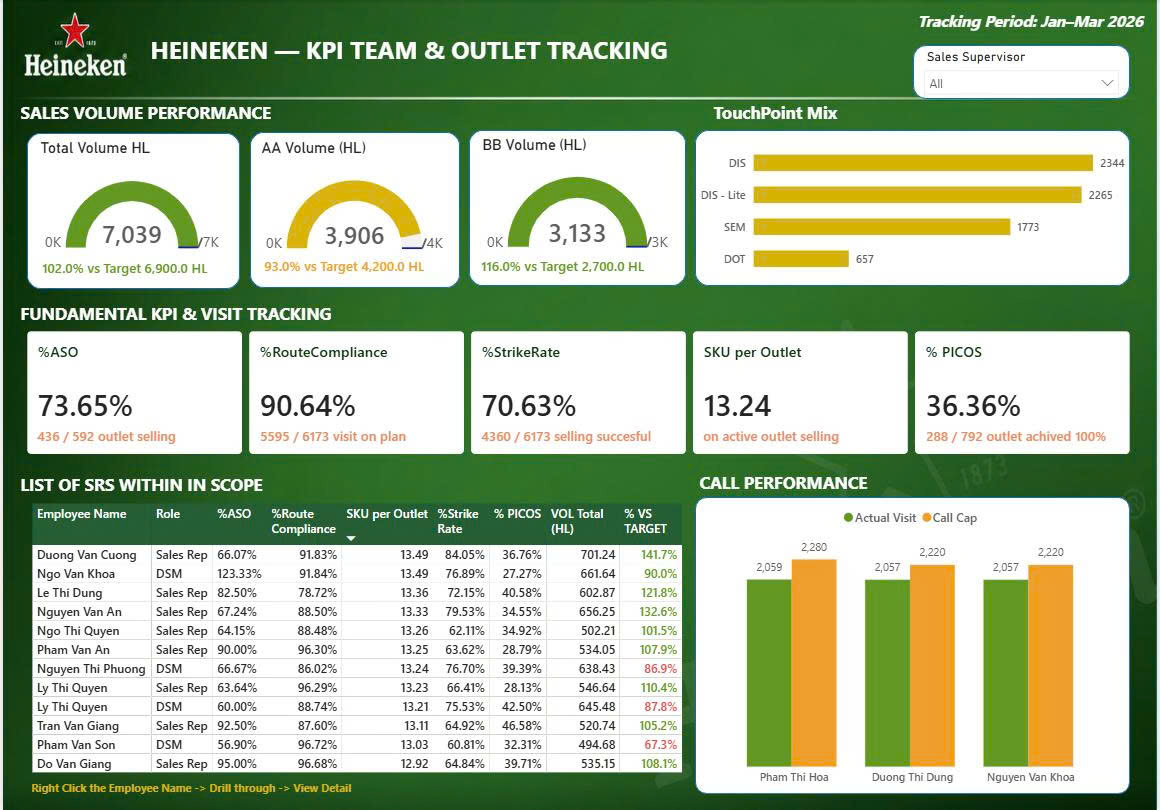

Layout of this report page (visuals, bound fields, positions):
{"tool":"powerbi","page":{"name":"Overview","canvas":[1280,900],"ordinal":0},"visuals":[{"type":"shape","box":[767,144.1,482.1,172.9],"z":1000},{"type":"shape","box":[1008.6,49.9,240.5,59.9],"z":2000},{"type":"shape","box":[516.5,144.1,240.5,172.9],"z":3000},{"type":"shape","box":[273.8,146.3,232.8,172.9],"z":4000},{"type":"shape","box":[26.6,147.4,236.1,172.9],"z":5000},{"type":"shape","box":[0,0,580.8,111.9],"z":6000},{"type":"textbox","title":"Tracking Period: Jan–Mar 2026","box":[1008.6,11.1,269.7,24.6],"z":7000},{"type":"textbox","title":"SALES VOLUME PERFORMANCE","box":[14.4,111.9,354.7,28.8],"z":8000},{"type":"textbox","title":"FUNDAMENTAL KPI & VISIT TRACKING","box":[14.4,334.7,354.7,28.8],"z":9000},{"type":"textbox","title":"LIST OF SRS WITHIN IN SCOPE","box":[14.4,524.3,354.7,28.8],"z":10000},{"type":"textbox","title":"CALL PERFORMANCE","box":[767,522,354.7,28.8],"z":11000},{"type":"gauge","title":"Total Volume HL","fields":{"MaxValue":["_Measures.Target Total Volume"],"TargetValue":["_Measures.Target Total Volume"],"Y":["_Measures.Total Sales Volume"]},"box":[36.6,154.1,212.8,141.9],"z":12000},{"type":"gauge","title":"AA Volume (HL)","fields":{"MaxValue":["_Measures.Target AA (HL)"],"TargetValue":["_Measures.Target AA (HL)"],"Y":["_Measures.Sales Vol AA (HL)"]},"box":[281.5,154.1,216.1,141.9],"z":13000},{"type":"gauge","title":"BB Volume (HL)","fields":{"MaxValue":["_Measures.Target BB (HL)"],"TargetValue":["_Measures.Target BB (HL)"],"Y":["_Measures.Sales Vol BB (HL)"]},"box":[526.5,150.7,220.6,143],"z":14000},{"type":"cardVisual","fields":{"Data":["_Measures.Volume vs Target Text"]},"box":[14.4,263.8,248.3,64.3],"z":15000},{"type":"cardVisual","fields":{"Data":["_Measures.Volume AA vs Target Text"]},"box":[260.5,261.6,246.1,64.3],"z":16000},{"type":"cardVisual","fields":{"Data":["_Measures.Volume BB vs Target Text"]},"box":[501,261.6,256,64.3],"z":17000},{"type":"cardVisual","fields":{"Data":["_Measures.%ASO","_Measures.%RouteCompliance","_Measures.%StrikeRate","_Measures.SKU per Outlet","_Measures.% PICOS"]},"box":[8.9,349.1,1261.3,172.9],"z":18000},{"type":"cardVisual","fields":{"Data":["_Measures_text.KPI ASO Text"]},"box":[8.9,450,354.7,64.3],"z":19000},{"type":"cardVisual","fields":{"Data":["_Measures_text.KPI Route Text"]},"box":[256,450,354.7,64.3],"z":20000},{"type":"cardVisual","fields":{"Data":["_Measures_text.KPI Strike Text"]},"box":[501,450,338.1,64.3],"z":21000},{"type":"cardVisual","fields":{"Data":["_Measures_text.KPI SKU/Outlet Text"]},"box":[747,450,354.7,64.3],"z":22000},{"type":"cardVisual","fields":{"Data":["_Measures_text.KPI PICOS Text"]},"box":[994.2,450,286,64.3],"z":23000},{"type":"tableEx","fields":{"Values":["Dim_Employee.EmployeeName","Dim_Employee.Role","_Measures.%ASO","_Measures.%RouteCompliance","_Measures.SKU per Outlet","_Measures.%StrikeRate","_Measures.% PICOS","_Measures.Total Sales Volume","_Measures.Total Sales Volume % (Display)"]},"box":[26.6,553.1,740.4,336.9],"z":24000},{"type":"barChart","fields":{"Category":["Fact_OrderLine.TouchPoint"],"Y":["_Measures.Total Sales Volume"]},"box":[767,144.1,482.1,172.9],"z":25000},{"type":"textbox","title":"TouchPoint Mix","box":[782.5,111.9,354.7,28.8],"z":26000},{"type":"shape","box":[767,550.9,482.1,329.2],"z":27000},{"type":"clusteredColumnChart","fields":{"Category":["Dim_Employee.Manager name"],"Y":["_Measures.TotalVisit","_Measures.Call Cap"]},"box":[767,553.1,482.1,327],"z":28000},{"type":"slicer","fields":{"Values":["Dim_Employee.Manager name"]},"box":[1010.8,49.9,236.1,58.7],"z":29000},{"type":"textbox","title":"Right Click the Employee Name -> Drill through -> View Detail","box":[26.6,864.5,440,25.5],"z":30001}]}

Visuals, with their boxes in screenshot pixels (x1, y1, x2, y2), scaled from the page's 1280x900 canvas onto the 1160x810 screenshot:
shape: detection(695, 130, 1132, 285)
shape: detection(914, 45, 1132, 99)
shape: detection(468, 130, 686, 285)
shape: detection(248, 132, 459, 287)
shape: detection(24, 133, 238, 288)
shape: detection(0, 0, 526, 101)
"Tracking Period: Jan–Mar 2026" textbox: detection(914, 10, 1158, 32)
"SALES VOLUME PERFORMANCE" textbox: detection(13, 101, 334, 127)
"FUNDAMENTAL KPI & VISIT TRACKING" textbox: detection(13, 301, 334, 327)
"LIST OF SRS WITHIN IN SCOPE" textbox: detection(13, 472, 334, 498)
"CALL PERFORMANCE" textbox: detection(695, 470, 1017, 496)
"Total Volume HL" gauge: detection(33, 139, 226, 266)
"AA Volume (HL)" gauge: detection(255, 139, 451, 266)
"BB Volume (HL)" gauge: detection(477, 136, 677, 264)
cardVisual - _Measures.Volume vs Target Text: detection(13, 237, 238, 295)
cardVisual - _Measures.Volume AA vs Target Text: detection(236, 235, 459, 293)
cardVisual - _Measures.Volume BB vs Target Text: detection(454, 235, 686, 293)
cardVisual - _Measures.%ASO x _Measures.%RouteCompliance: detection(8, 314, 1151, 470)
cardVisual - _Measures_text.KPI ASO Text: detection(8, 405, 330, 463)
cardVisual - _Measures_text.KPI Route Text: detection(232, 405, 553, 463)
cardVisual - _Measures_text.KPI Strike Text: detection(454, 405, 760, 463)
cardVisual - _Measures_text.KPI SKU/Outlet Text: detection(677, 405, 998, 463)
cardVisual - _Measures_text.KPI PICOS Text: detection(901, 405, 1159, 463)
tableEx - Dim_Employee.EmployeeName x Dim_Employee.Role: detection(24, 498, 695, 801)
barChart - Fact_OrderLine.TouchPoint x _Measures.Total Sales Volume: detection(695, 130, 1132, 285)
"TouchPoint Mix" textbox: detection(709, 101, 1031, 127)
shape: detection(695, 496, 1132, 792)
clusteredColumnChart - Dim_Employee.Manager name x _Measures.TotalVisit: detection(695, 498, 1132, 792)
slicer - Dim_Employee.Manager name: detection(916, 45, 1130, 98)
"Right Click the Employee Name -> Drill through -> View Detail" textbox: detection(24, 778, 423, 801)
